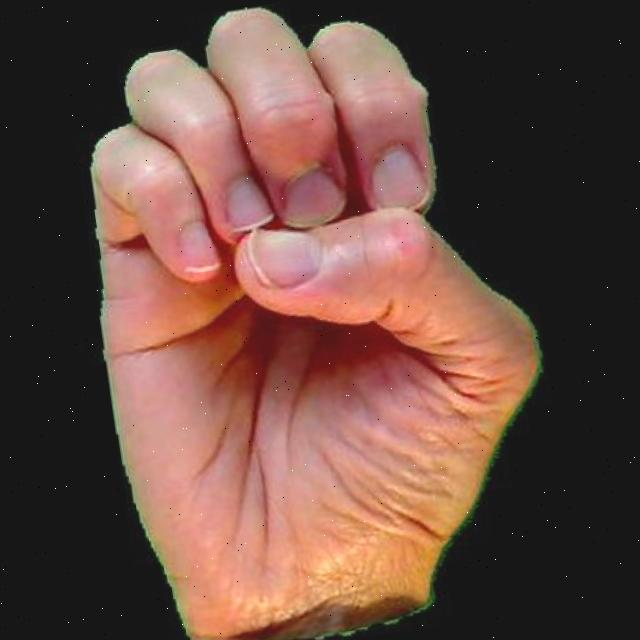e: (31, 0, 578, 640)
